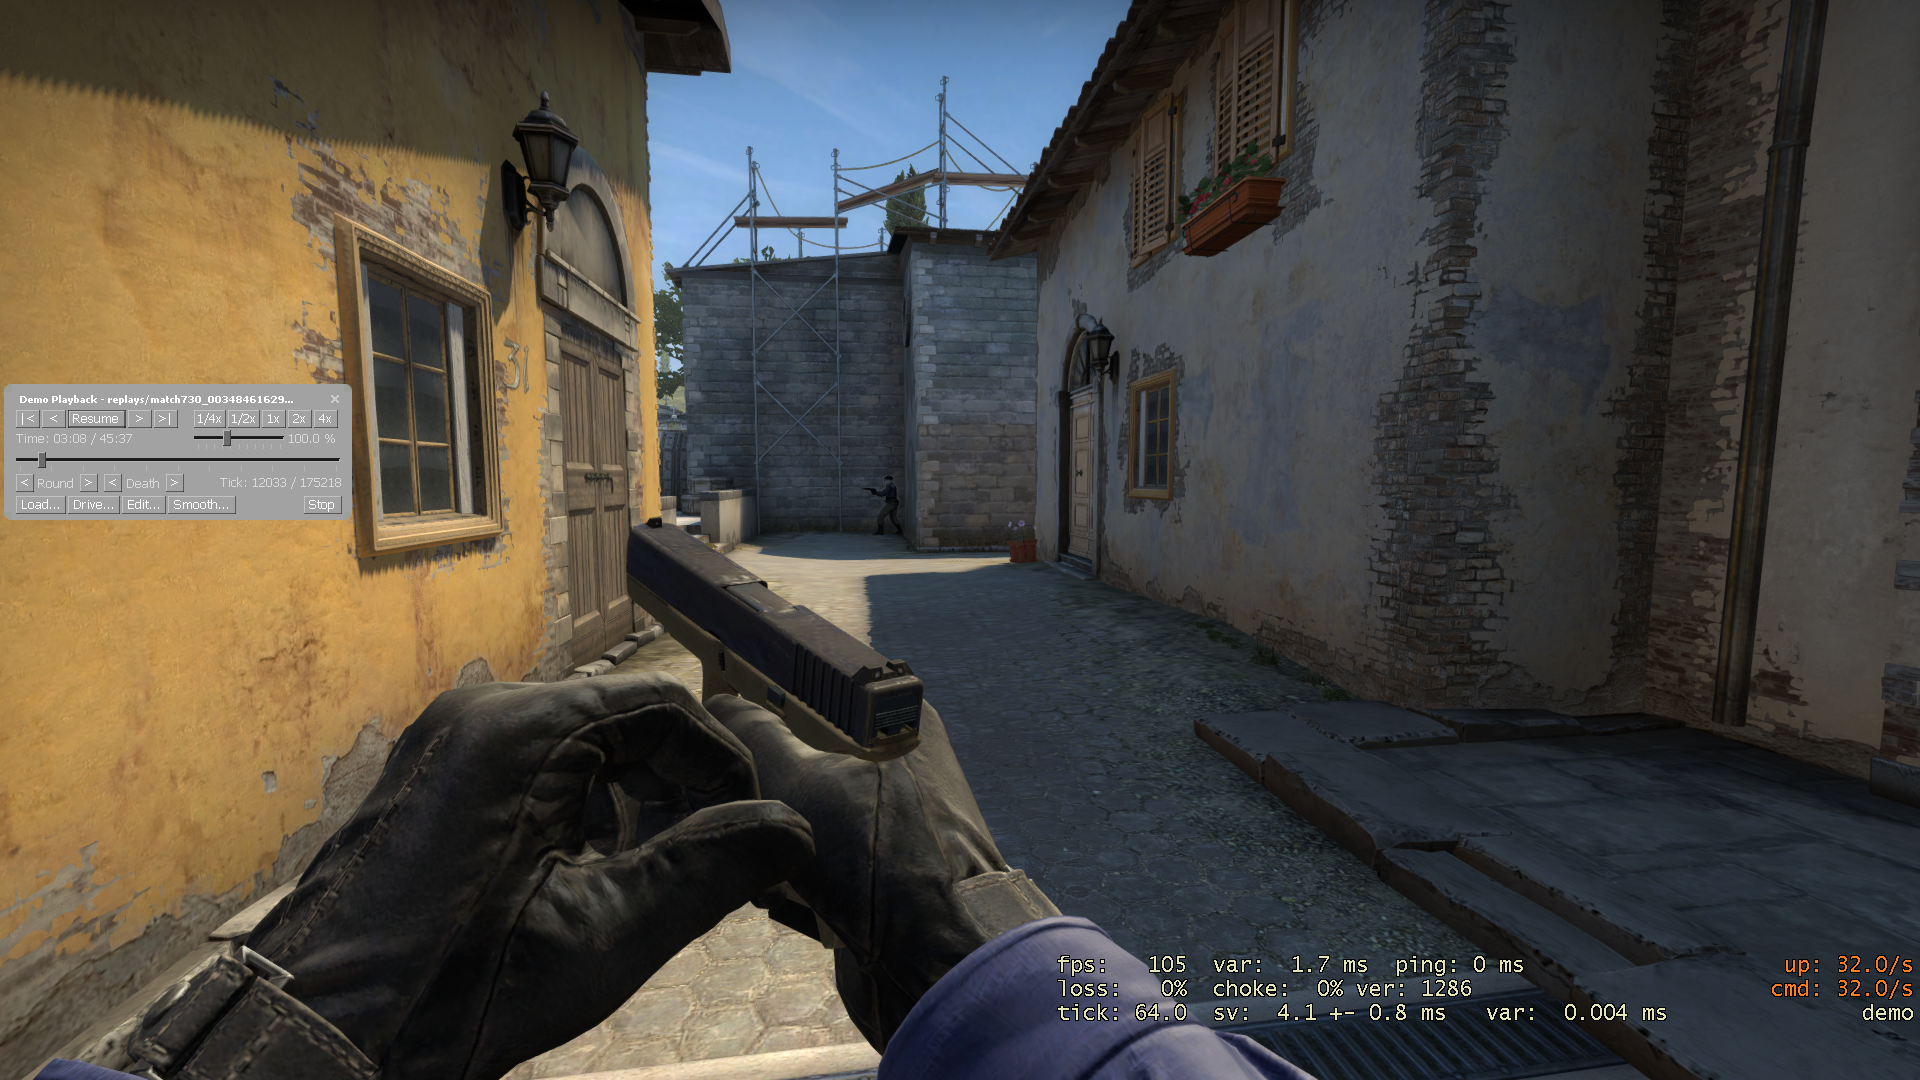t: (870, 476, 902, 535)
